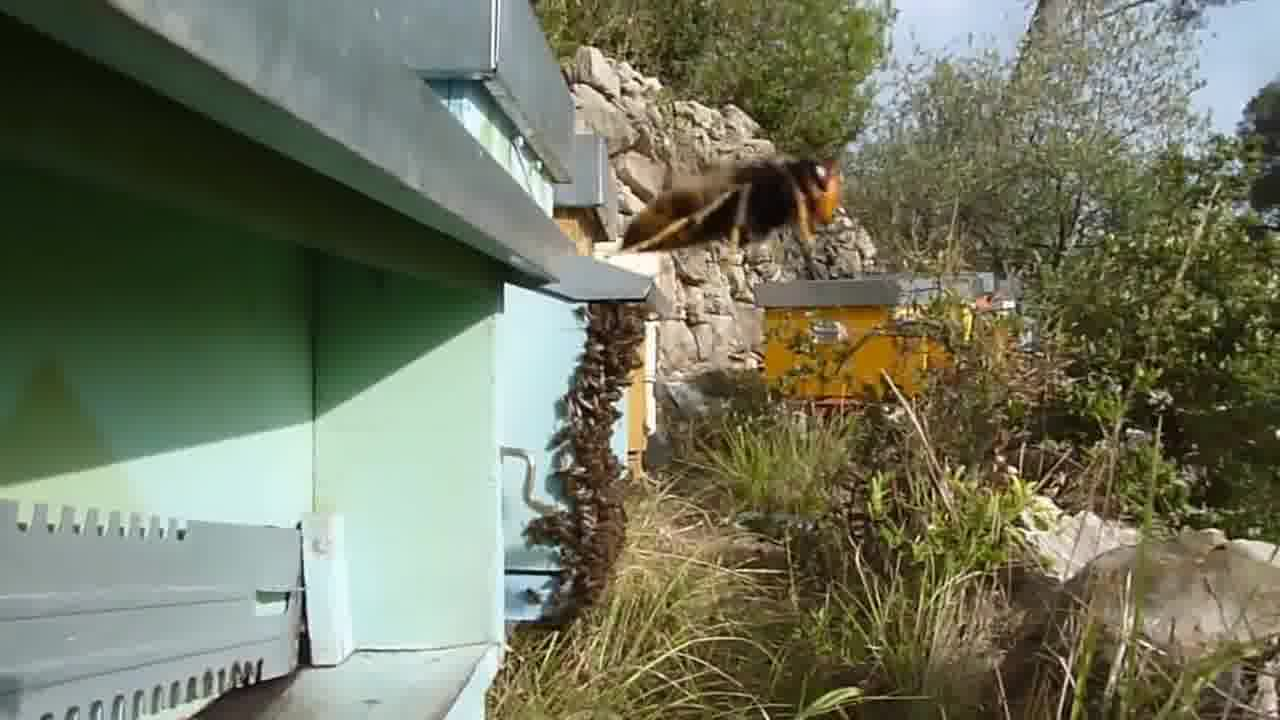bee: (544, 477, 633, 581), (586, 306, 651, 390), (558, 393, 628, 471)
hornet: (617, 125, 859, 269)
